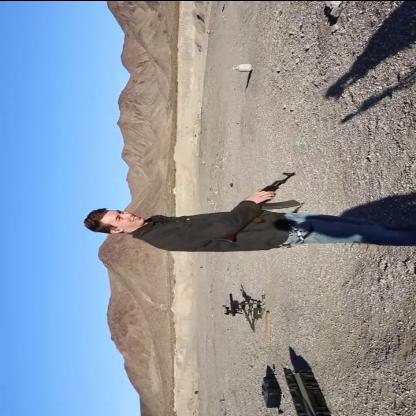long weapon: (208, 162, 302, 244), (200, 282, 260, 320)
